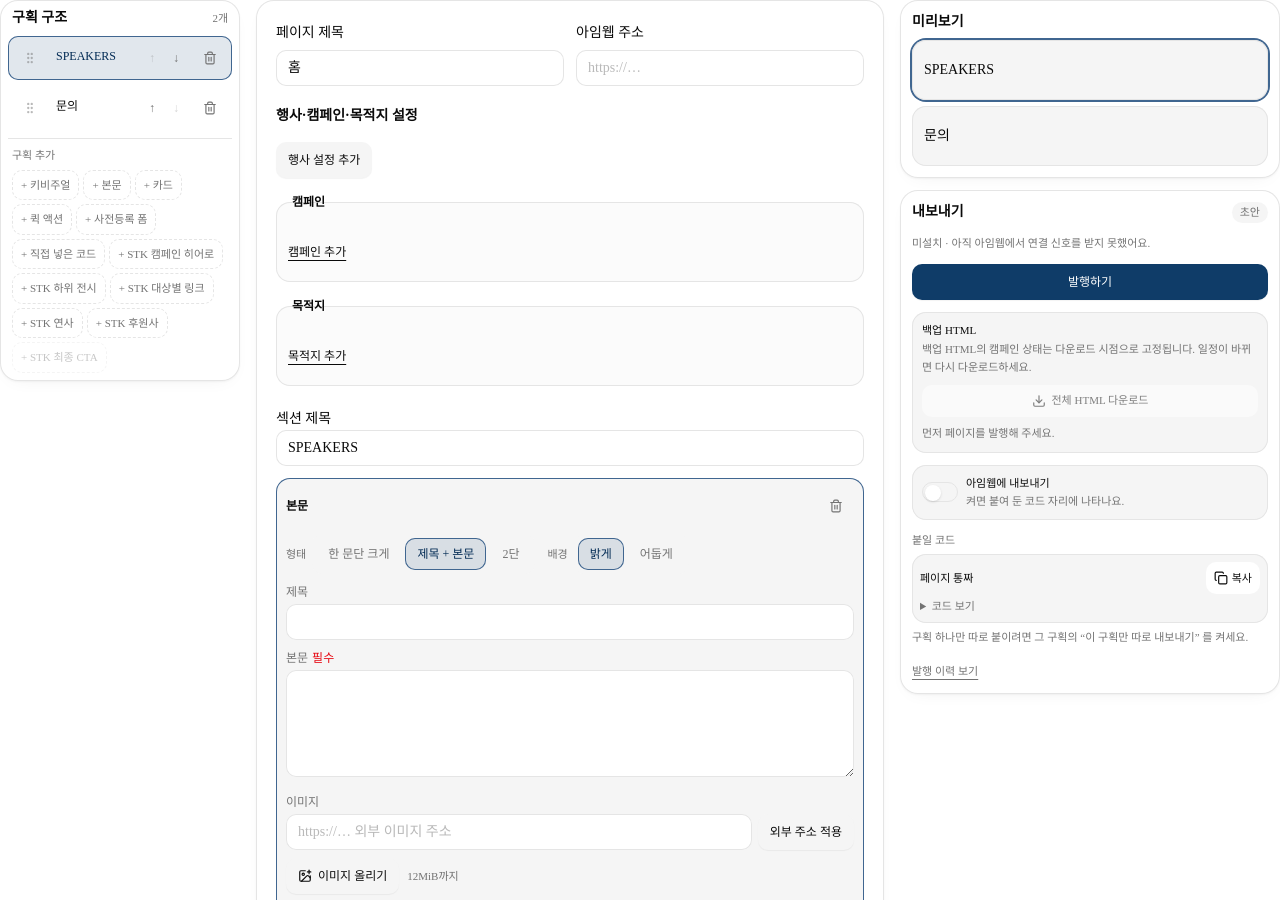
Scenario: one Expo page draft owner › keeps tree, editor, and preview on one draft
Click the button with aria-label "SPEAKERS 편집": (94, 58) [52,42,136,74]
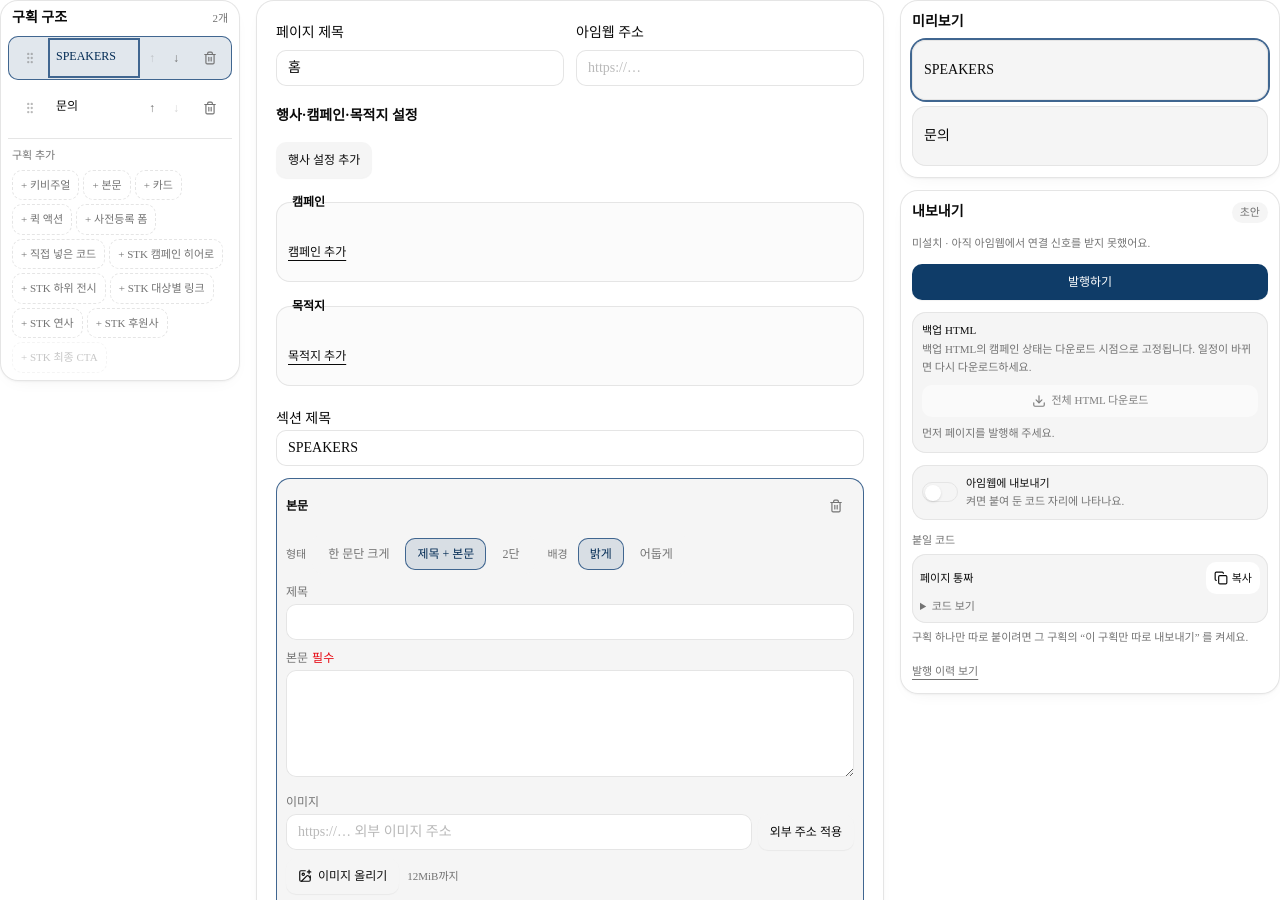
In the field labelled "섹션 제목": (570, 448) [276,430,864,466], type " 2027"
Wait 900 ms
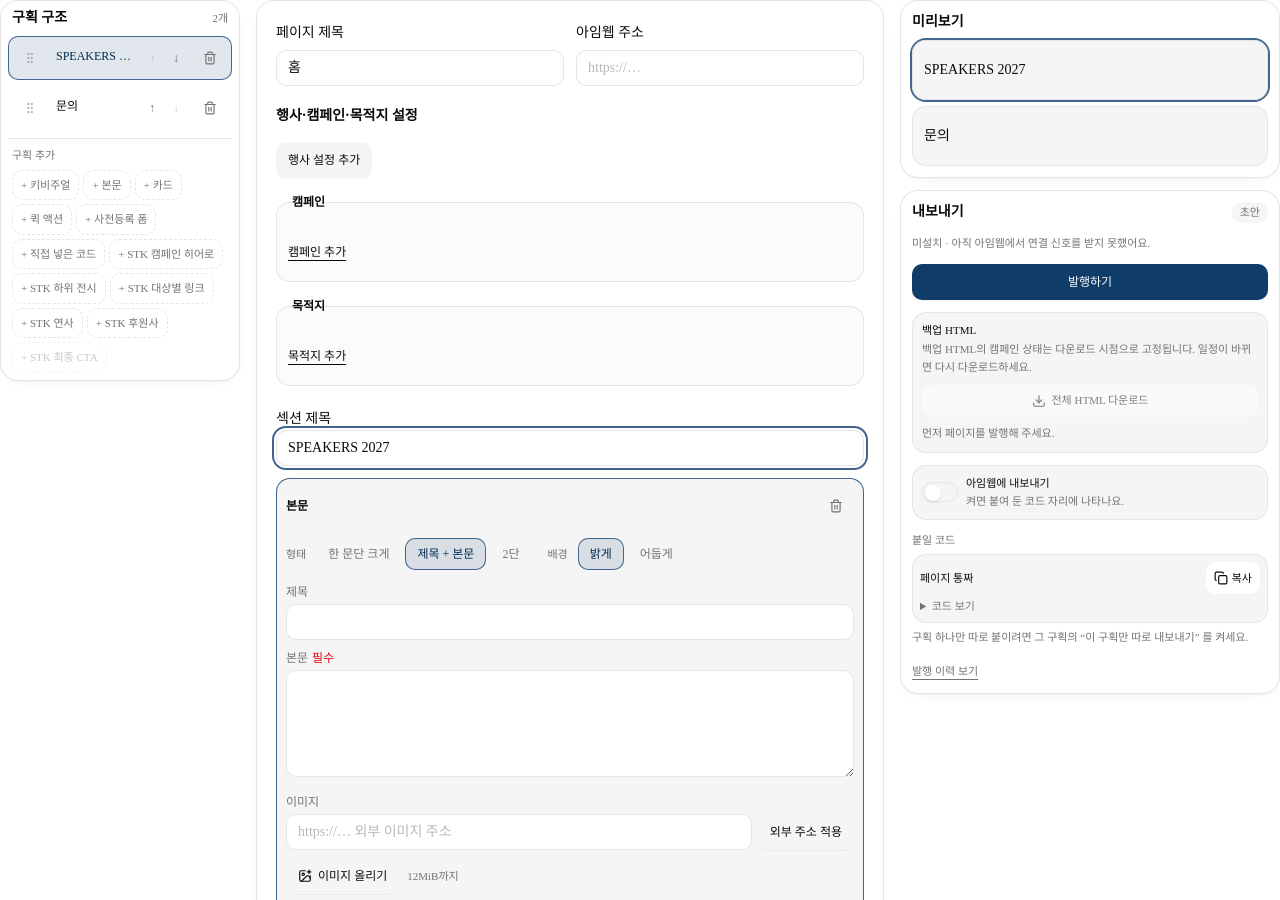
Expected: the element with test id "expo-preview" shows "SPEAKERS 2027", [912,40,1268,100]
